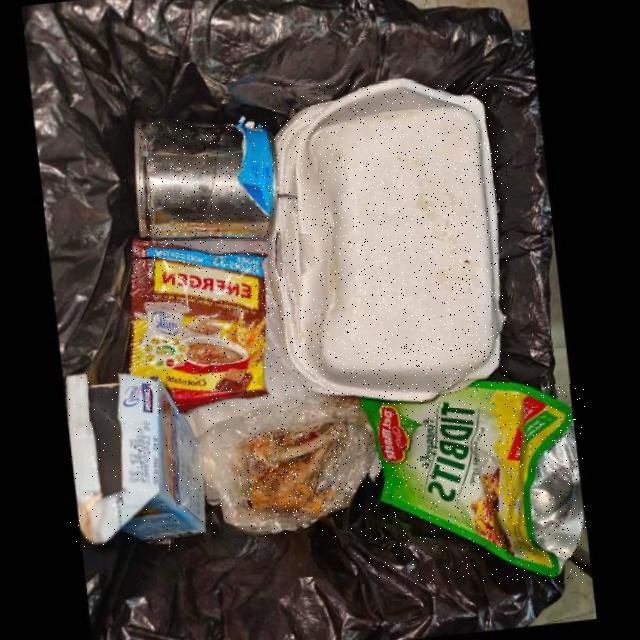biowaste: (247, 428, 350, 515)
metal: (139, 120, 279, 242)
paper: (68, 373, 207, 546)
plastic: (198, 396, 379, 538)
styrofoam: (271, 82, 509, 407)
wrapper: (363, 384, 586, 584), (132, 241, 271, 415)
